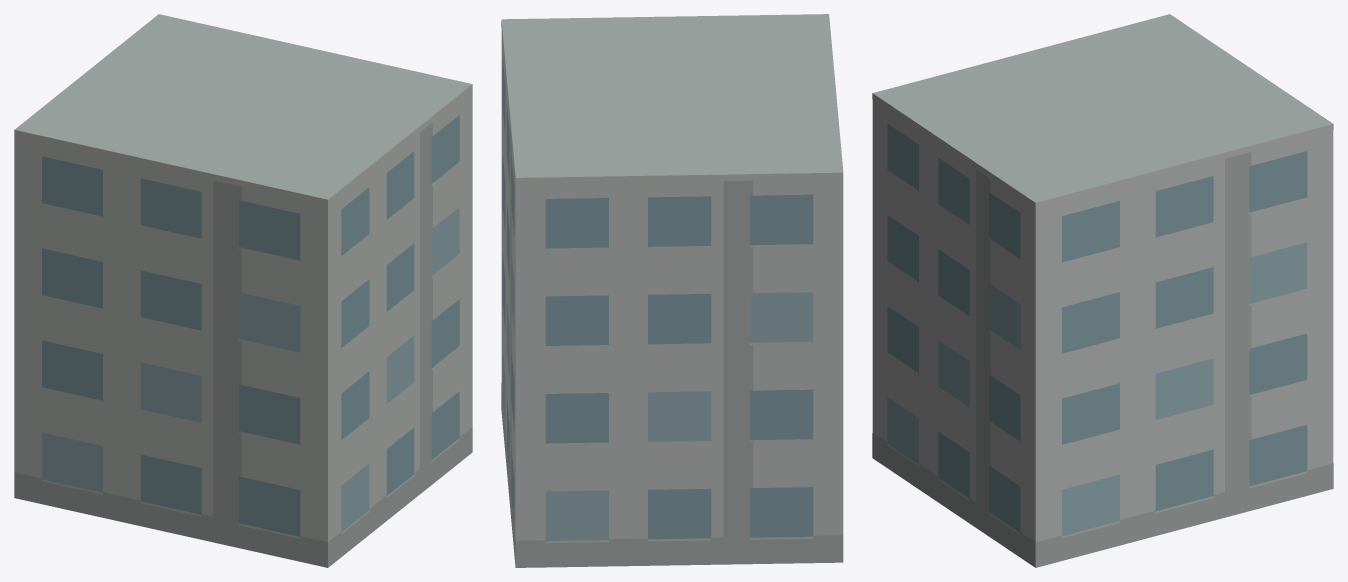
Rendered from residential-e19756f5-6083-4bc8-9365-74119402a2b7.glb.
3 renders of one model, left to right at view 1: azimuth 30°, elevation 25°; view 2: azimuth 150°, elevation 25°; view 3: azimuth 270°, elevation 25°, orthographic. The views are drawn at different scales.
Visible parts, largest first — view 1: residential-e19756f5-6083-4bc8-9365-74119402a2b7.tmp; view 2: residential-e19756f5-6083-4bc8-9365-74119402a2b7.tmp; view 3: residential-e19756f5-6083-4bc8-9365-74119402a2b7.tmp.
Boxes of the visible parts, x1=… form: residential-e19756f5-6083-4bc8-9365-74119402a2b7.tmp: x1=14, y1=14, x2=472, y2=567; residential-e19756f5-6083-4bc8-9365-74119402a2b7.tmp: x1=501, y1=14, x2=843, y2=567; residential-e19756f5-6083-4bc8-9365-74119402a2b7.tmp: x1=872, y1=14, x2=1333, y2=567.
Size of the model in its own units: 15.77 by 14.2 by 16.26.
